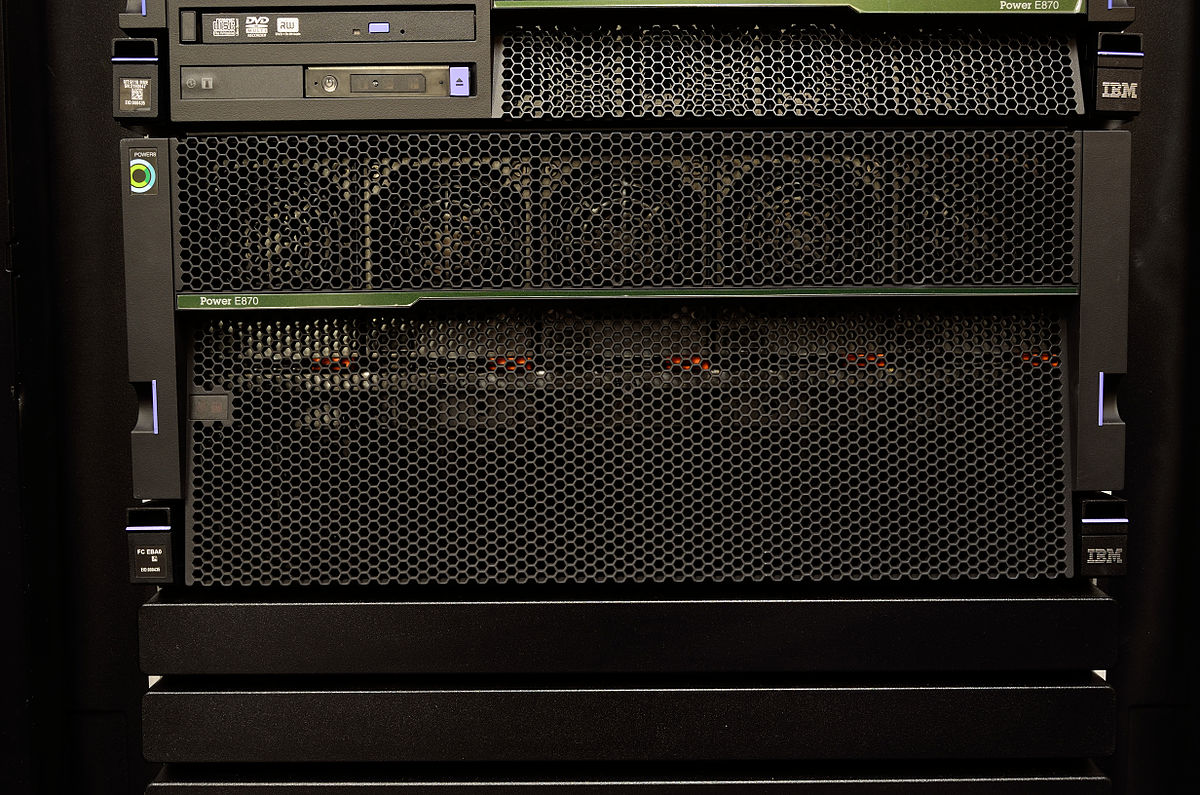ibm-server: (73, 4, 1159, 621)
